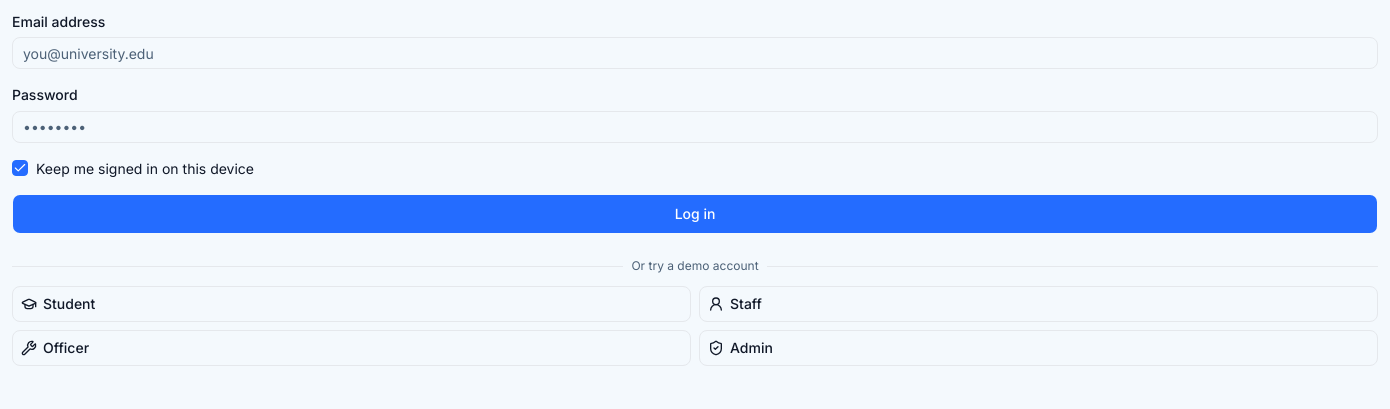
Test: LoginForm › shows an error for a wrong password and stays on the page
Type "student@zega.test" into the field labelled "Email address".
click(695, 53); type("student@zega.test")  # box [12,37,1378,69]
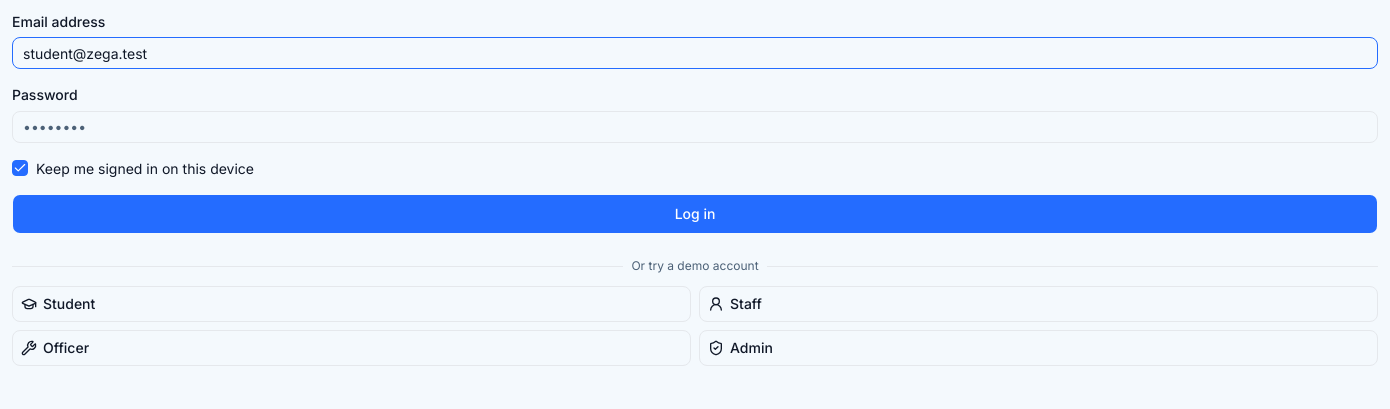
Type "nope" into the password field labelled "Password".
click(695, 126); type("nope")  # box [12,110,1378,142]
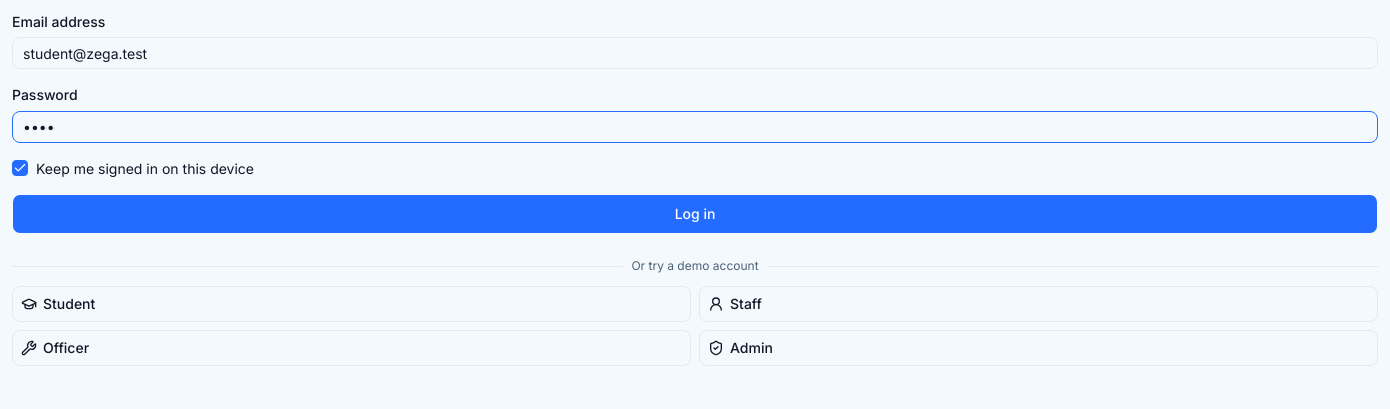
Click the button "Log in".
click(695, 214)  # box [12,194,1378,234]
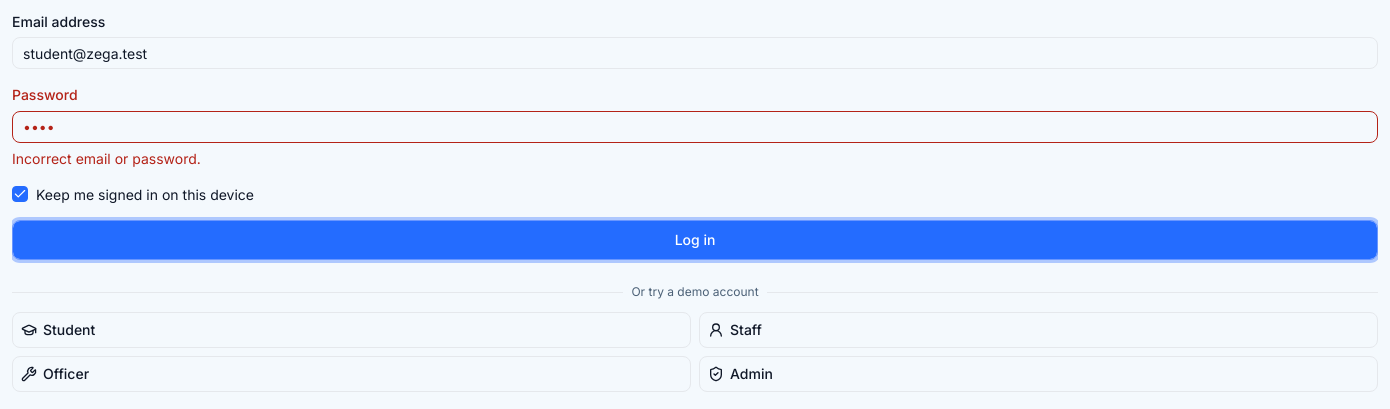
Now the text "Incorrect email or password." is shown, box [12,150,201,166]
